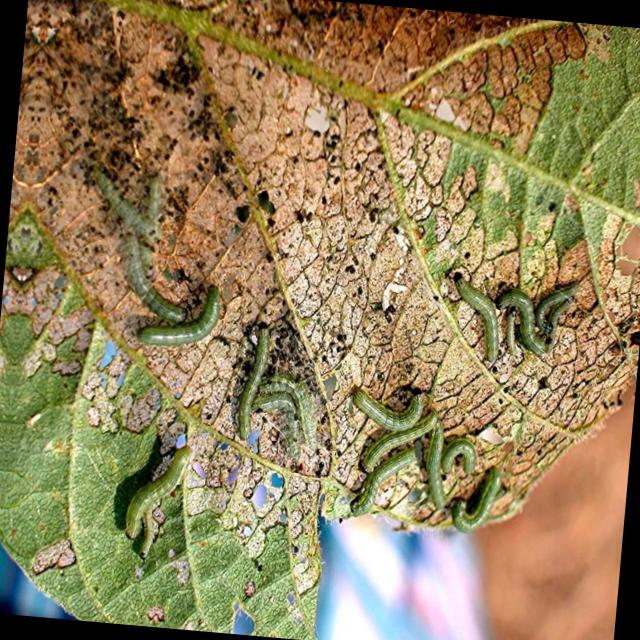Armyworm: (116, 429, 189, 563), (438, 249, 507, 376), (488, 264, 557, 377), (447, 454, 517, 557), (333, 442, 430, 516), (142, 279, 226, 354), (230, 320, 274, 460), (111, 245, 187, 326), (348, 413, 443, 473), (415, 411, 459, 528), (346, 370, 428, 432), (432, 416, 489, 504), (533, 272, 584, 356), (251, 386, 301, 457)
Armyworm_damage: (192, 591, 282, 638), (75, 326, 129, 404), (258, 494, 309, 537), (231, 509, 267, 550), (277, 579, 307, 625), (248, 465, 273, 511), (183, 454, 215, 486), (265, 463, 292, 497)
